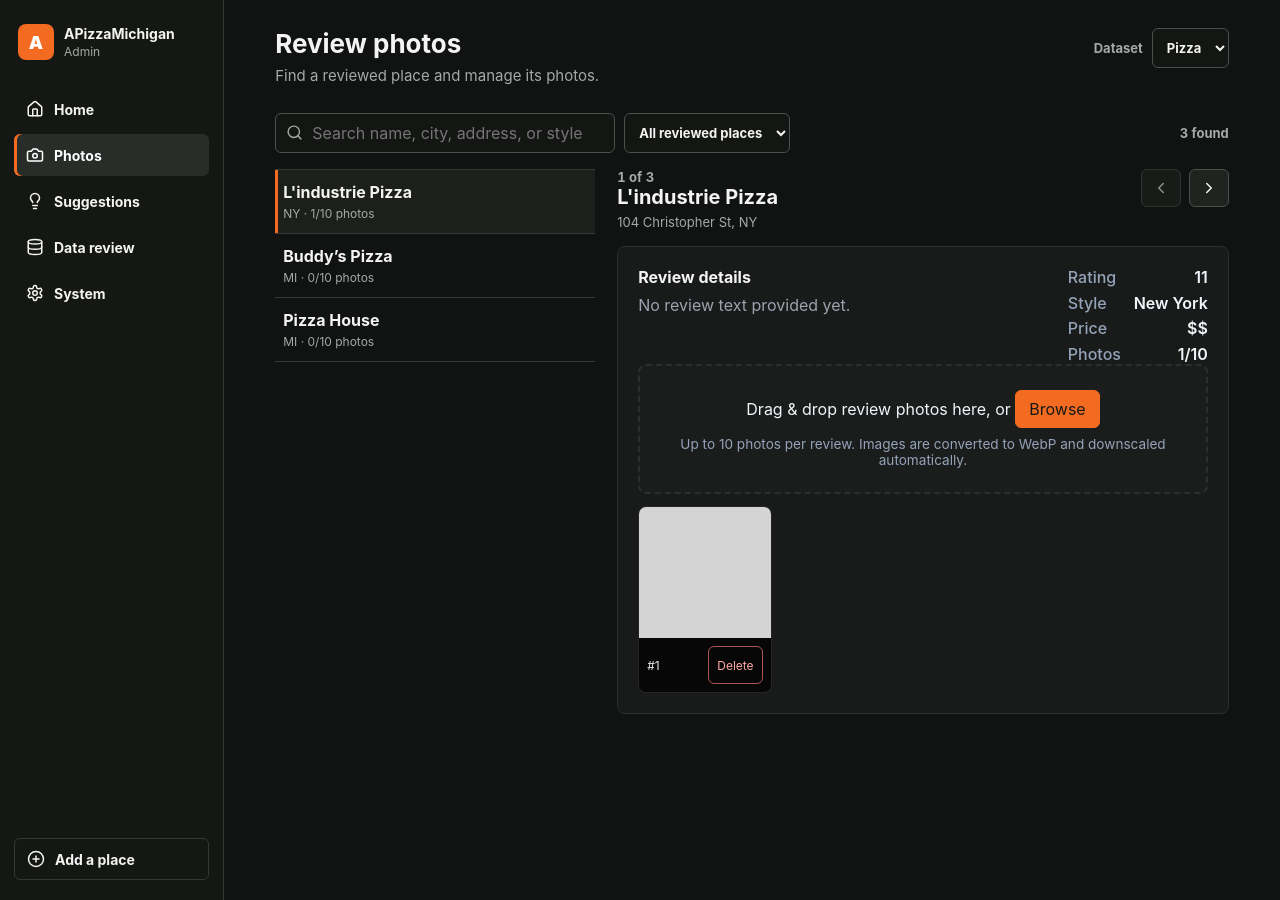
Test: AdminReviewsPage › shows a bounded photo result list and only one selected editor
Expected: the heading "Review photos" is shown, [275, 28, 461, 59]
Expected: the button "L'industrie Pizza NY · 1/10 photos" is shown, [275, 170, 595, 234]
Step 1. Click the button "Buddy’s Pizza MI · 0/10 photos" → (338, 256), box [275, 234, 595, 298]
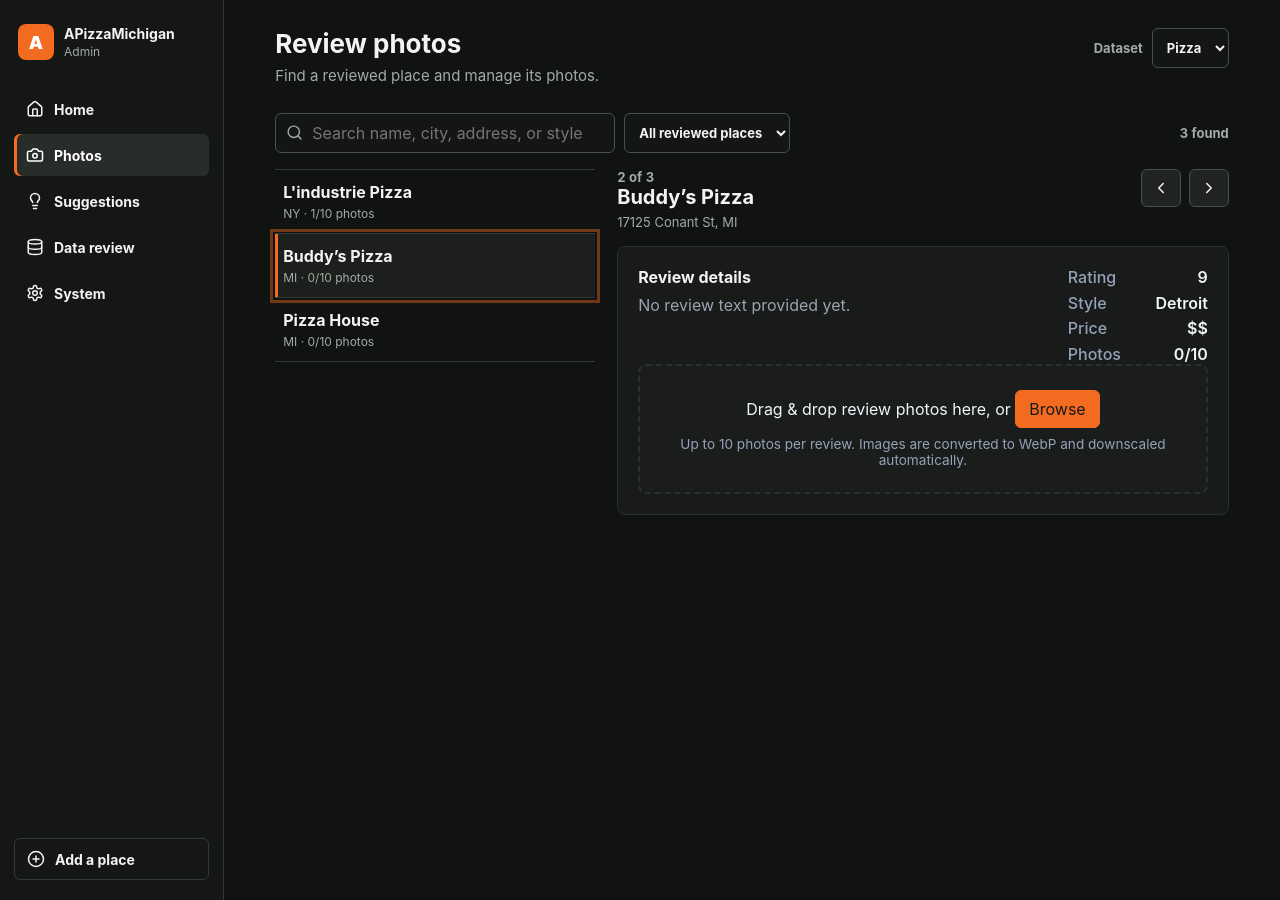
Expected: the element named "selected review" shows "Buddy’s Pizza", [617, 185, 754, 209]
